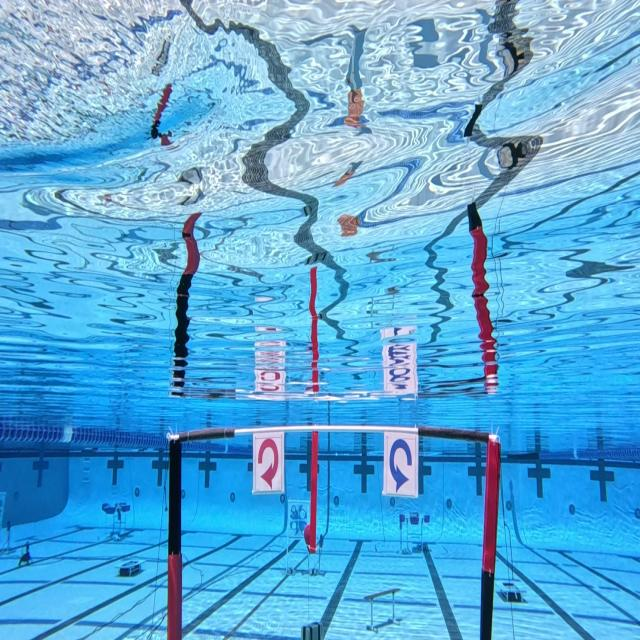blue_side: (381, 432, 424, 512)
red_side: (250, 429, 289, 505)
